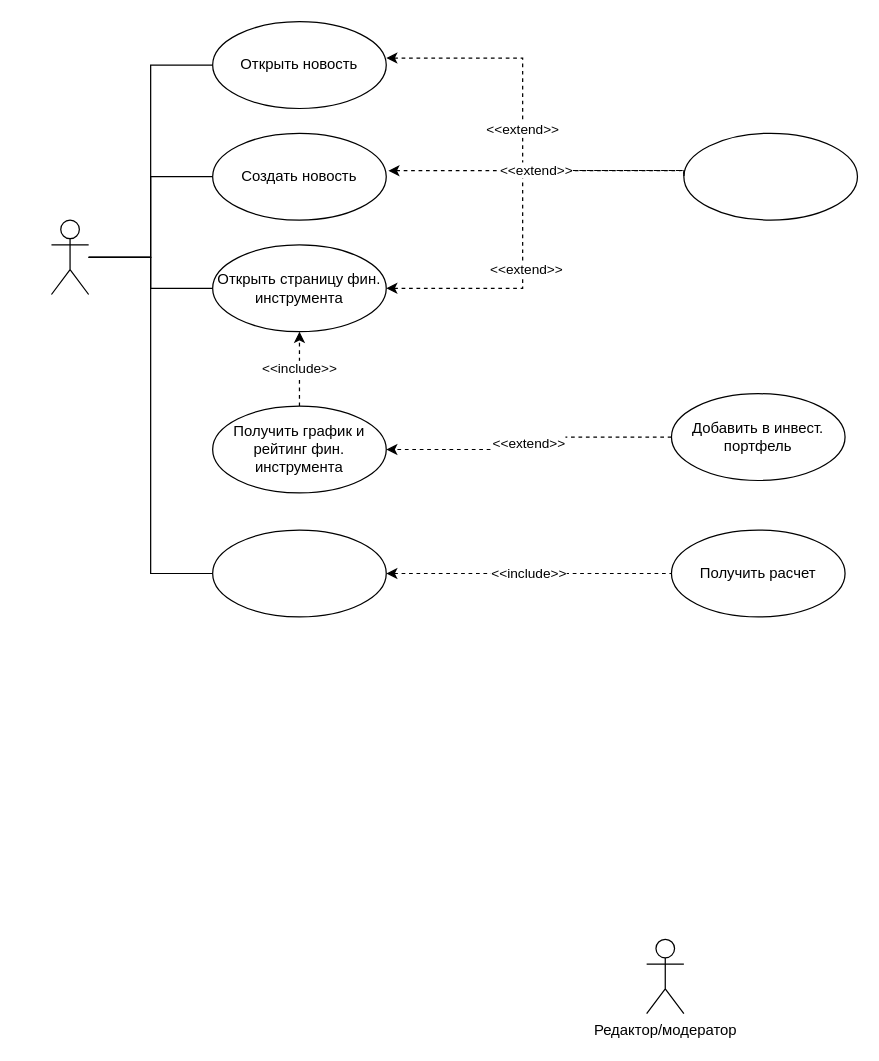
Some shapes in this 879 by 1061 pixel diagram are drawn without their labels. The centre of each missing label's shape, as x and y in pixels:
"Оставить комментарий" belongs at [770,176].
"Открыть калькулятор" belongs at [298,573].
"Пользователь" belongs at [69,256].
